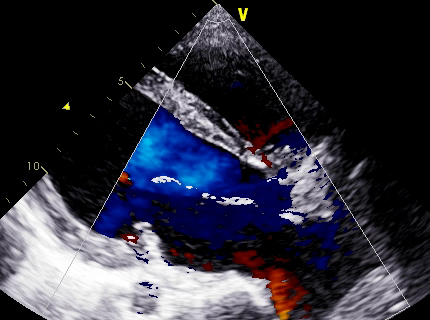MR: (127, 173, 193, 249)
